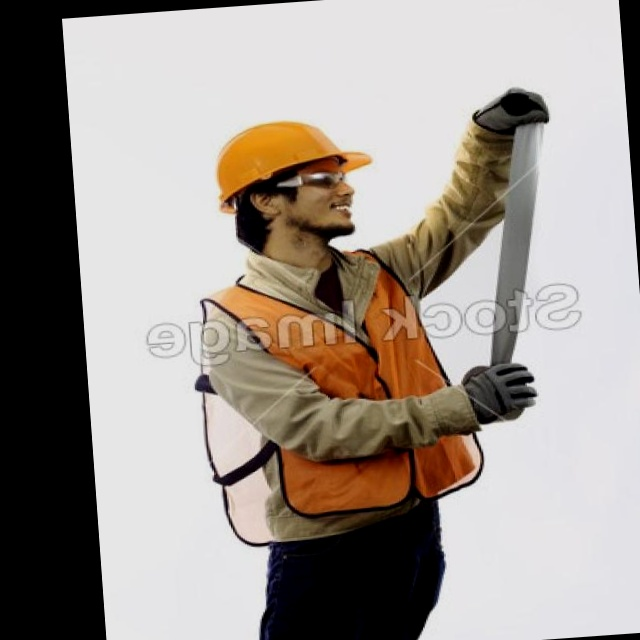Con_Casco: (211, 116, 378, 251)
